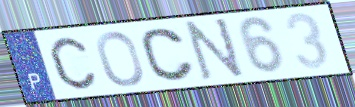3: (284, 10, 334, 73)
6: (236, 14, 289, 78)
C: (139, 26, 198, 84), (47, 35, 99, 91)
N: (184, 16, 247, 83)
O: (94, 29, 146, 89)
